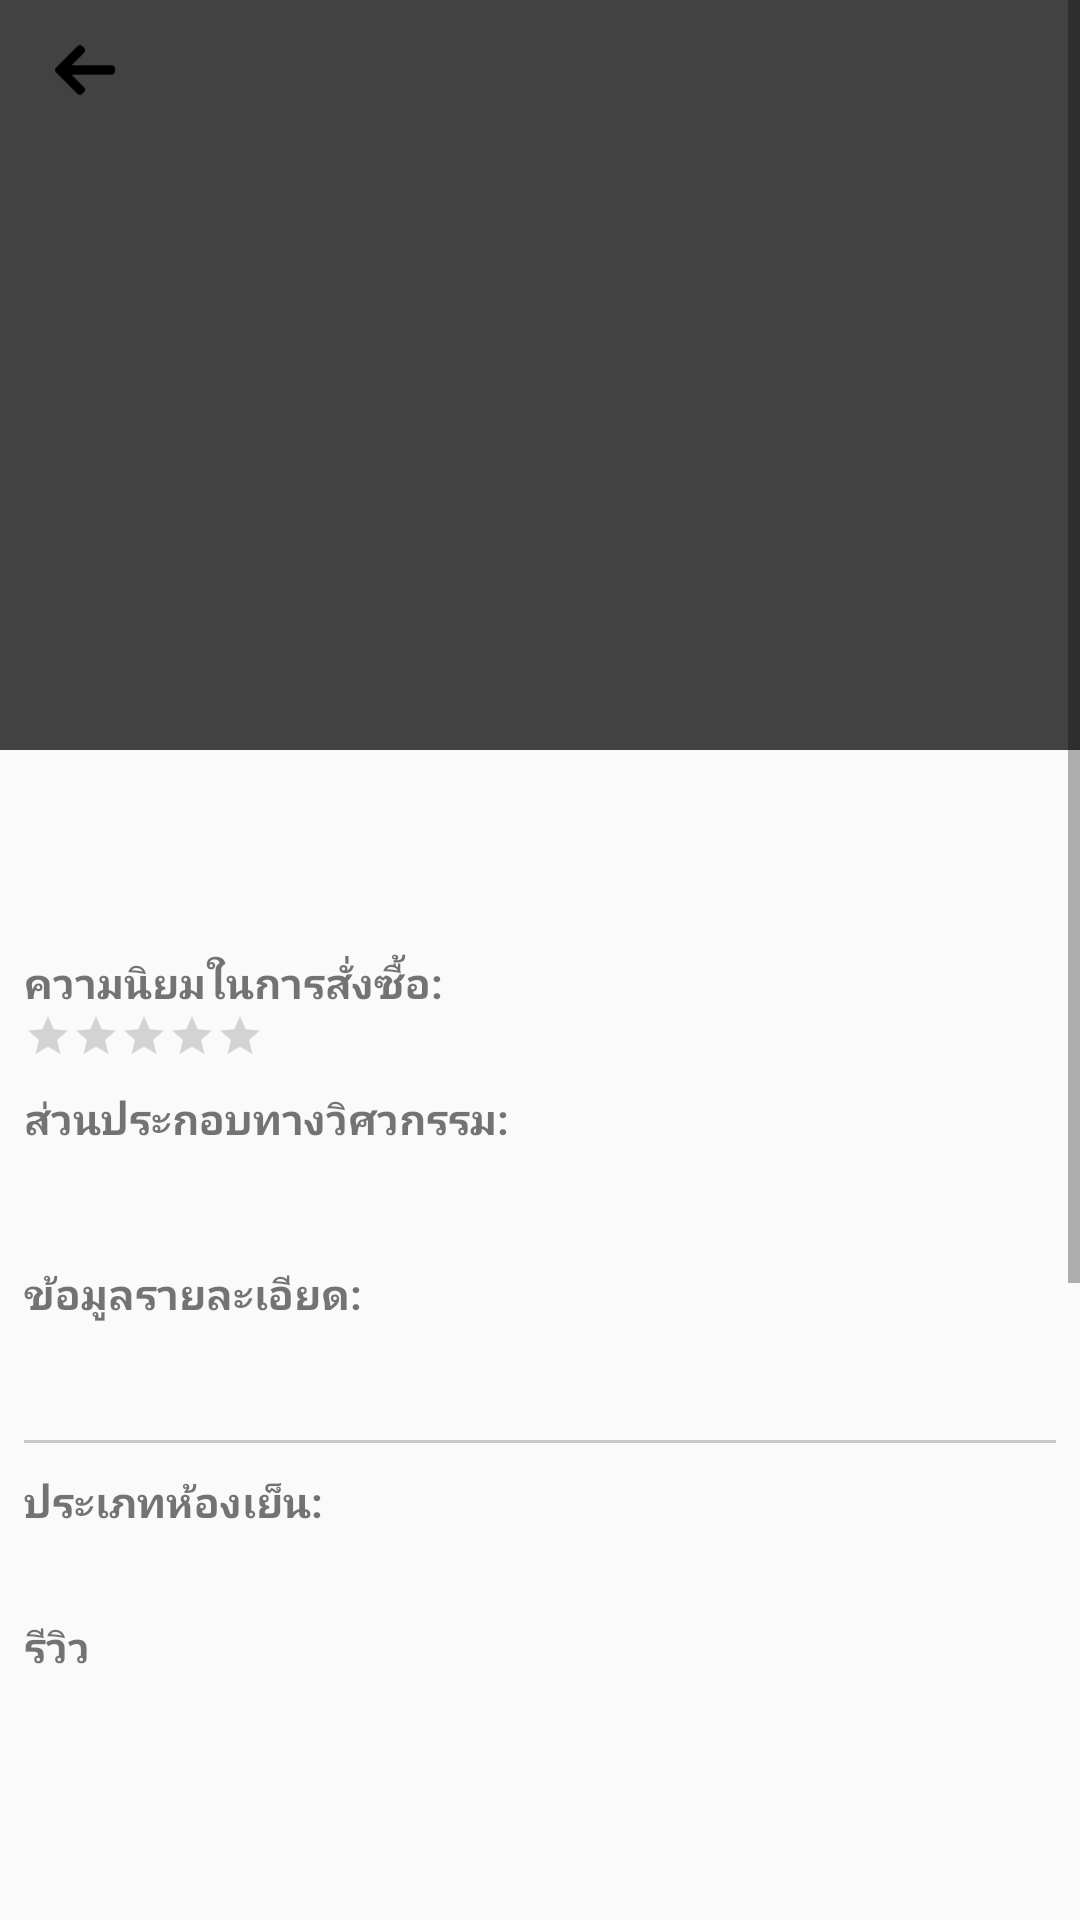

Locate icon controls on the screen. Image size 1080×1920, boxes as (x1, y1, x2, y2).
leftarrow: (55, 45, 115, 95)
